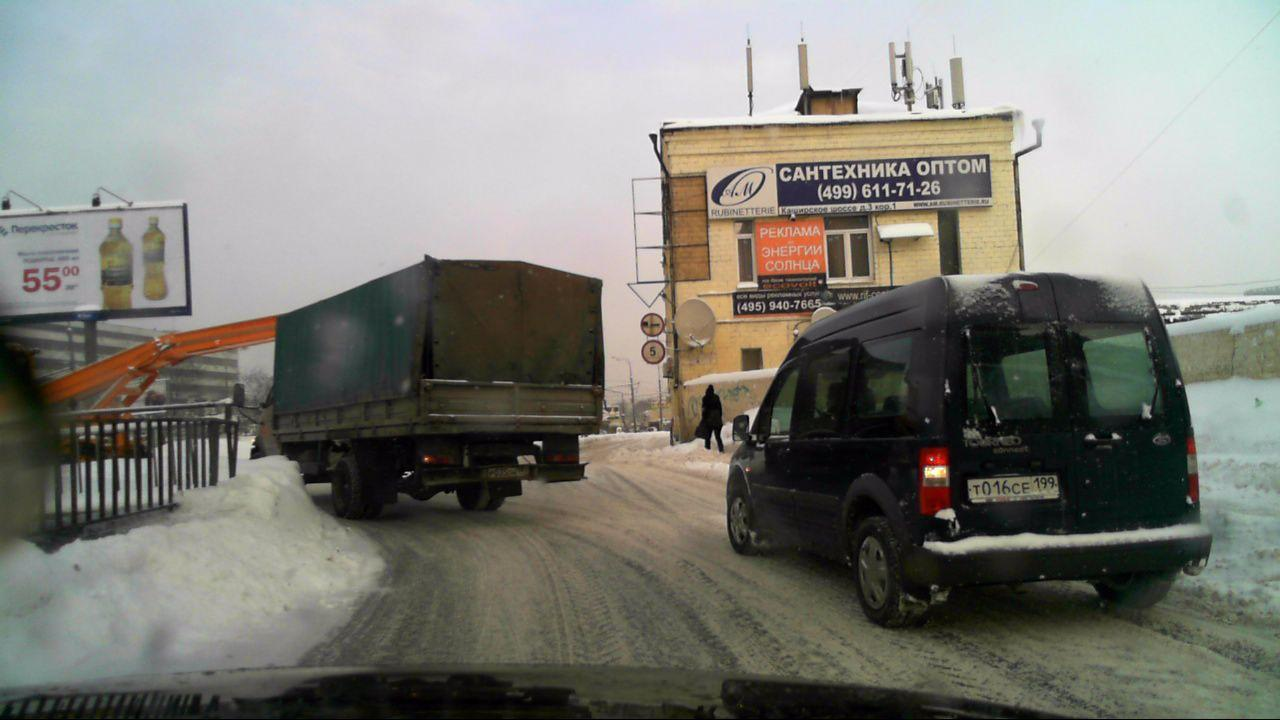road_sign: (641, 340, 666, 365), (640, 312, 664, 337)
